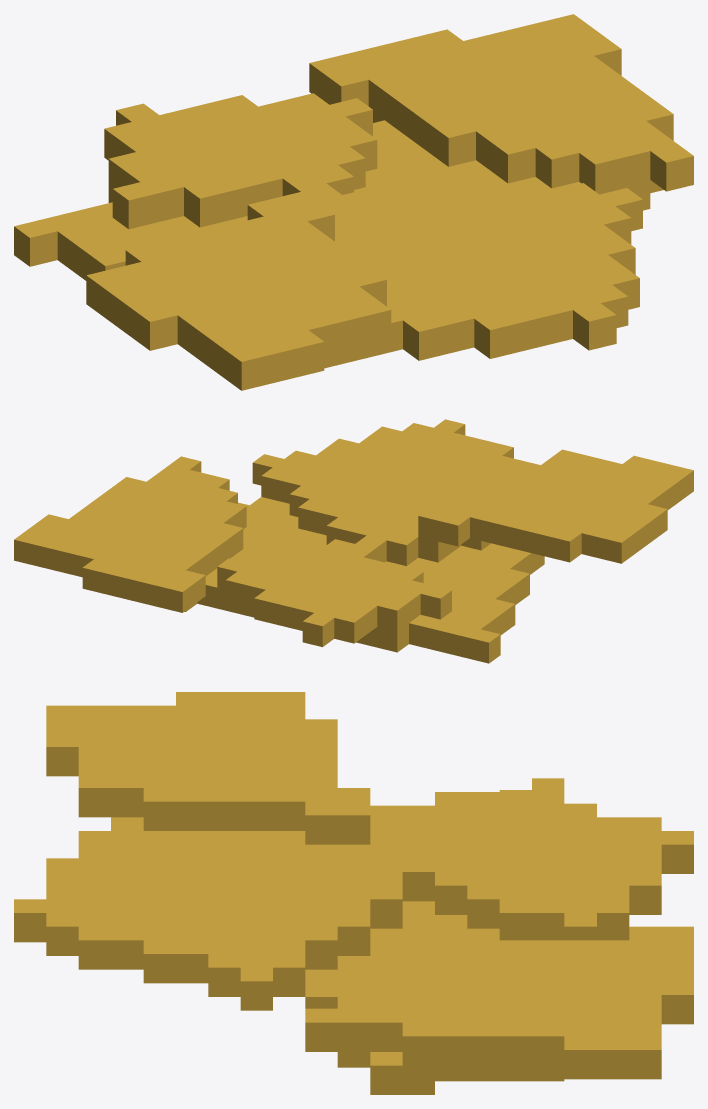
Rendered from scrap_kevlar.glb.
3 renders of one model, top to bottom at view 1: azimuth 30°, elevation 25°; view 2: azimuth 150°, elevation 25°; view 3: azimuth 270°, elevation 25°, orthographic. The views are drawn at different scales.
Visible parts, largest first — view 1: scrap_kevlar:compound; view 2: scrap_kevlar:compound; view 3: scrap_kevlar:compound.
Boxes of the visible parts, x1=… form: scrap_kevlar:compound: x1=14, y1=14, x2=693, y2=390; scrap_kevlar:compound: x1=14, y1=419, x2=693, y2=663; scrap_kevlar:compound: x1=14, y1=692, x2=693, y2=1094.
Size of the model in its own units: 0.048 by 0.006 by 0.042.
